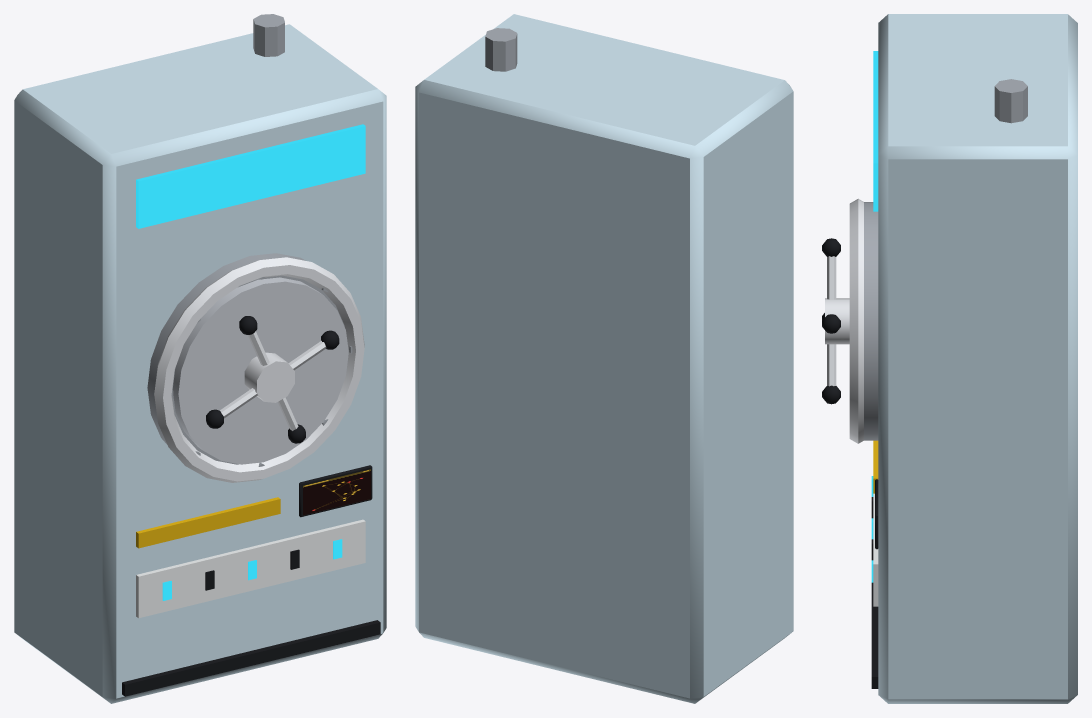
Rendered from specimen_seed_vault.glb.
3 views of the same model, side by side, from view 1: azimuth 30°, elevation 25°; view 2: azimuth 150°, elevation 25°; view 3: azimuth 270°, elevation 25° (orthographic).
Visible parts, largest first — view 1: specimen_seed_vault; view 2: specimen_seed_vault; view 3: specimen_seed_vault.
Part boxes in pixels (x1=…): specimen_seed_vault: x1=14, y1=14, x2=386, y2=703; specimen_seed_vault: x1=415, y1=14, x2=793, y2=703; specimen_seed_vault: x1=822, y1=14, x2=1077, y2=703.
Bounding box in the file's own units: 1 × 1.97 × 0.7685.
Materials: 9 (1 with a texture image).
